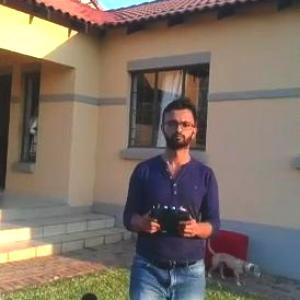follow: (112, 93, 226, 299)
null: (206, 242, 267, 291)
